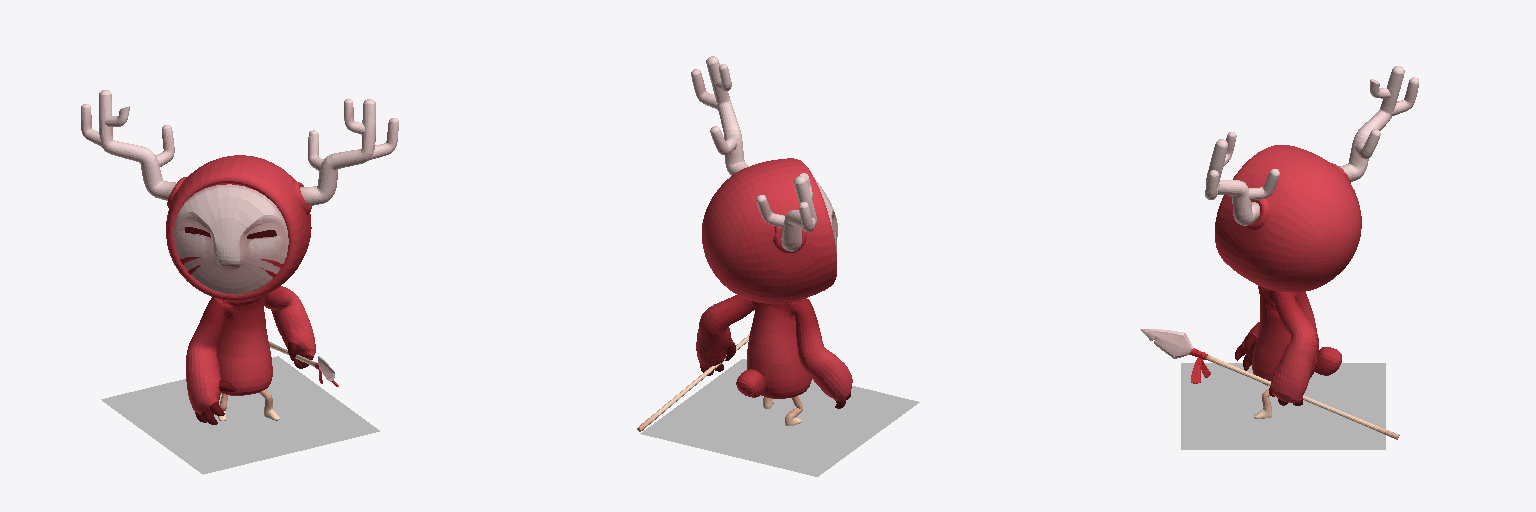
The picture shows the model from 3 angles: view 1: azimuth 30°, elevation 25°; view 2: azimuth 150°, elevation 25°; view 3: azimuth 270°, elevation 25°; orthographic projection.
Visible parts, largest first — view 1: WILD; view 2: WILD; view 3: WILD.
Part boxes in pixels (x1,y1,x2,y2): WILD: (81, 90, 398, 474); WILD: (637, 56, 919, 476); WILD: (1140, 66, 1418, 449).
Size of the model in its own units: 19.11 by 26.31 by 21.14.
2 materials, 1 textured.